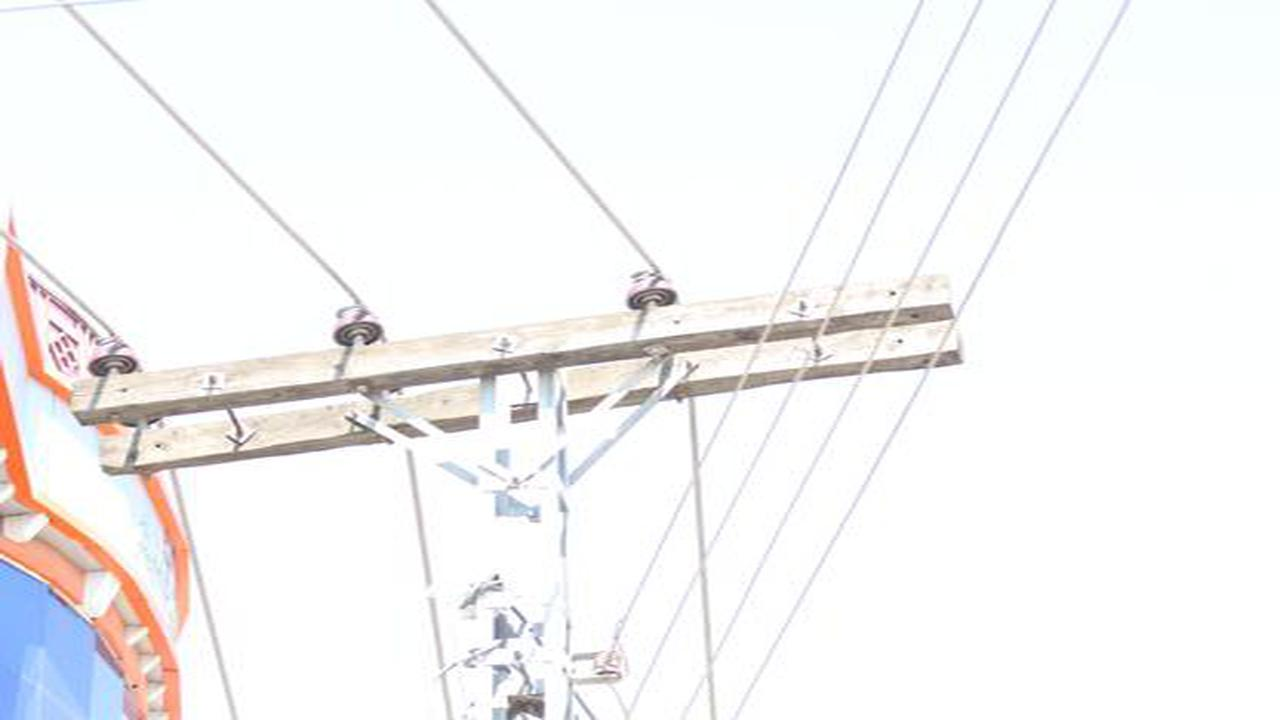insulator_pin: (621, 268, 686, 311), (329, 300, 386, 345), (88, 336, 140, 374)
